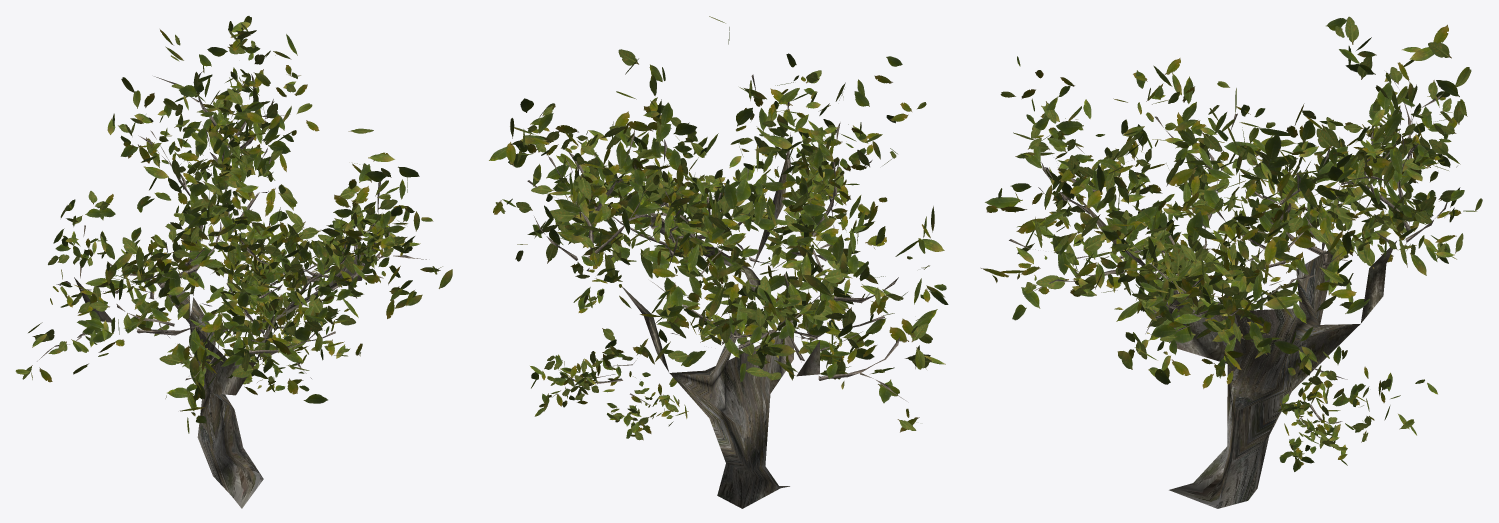
Rendered from maple.glb.
3 views of the same model, side by side, from view 1: azimuth 30°, elevation 25°; view 2: azimuth 150°, elevation 25°; view 3: azimuth 270°, elevation 25° (orthographic). The views are drawn at different scales.
Parts seen in each view (by area): view 1: lod1; view 2: lod1; view 3: lod1.
Boxes of the visible parts, x1,y1,x2,y2 form: lod1: (15,16,452,508); lod1: (489,16,948,508); lod1: (981,16,1482,508).
Size of the model in its own units: 14.55 by 14.79 by 13.28.
3 materials, 3 textured.
